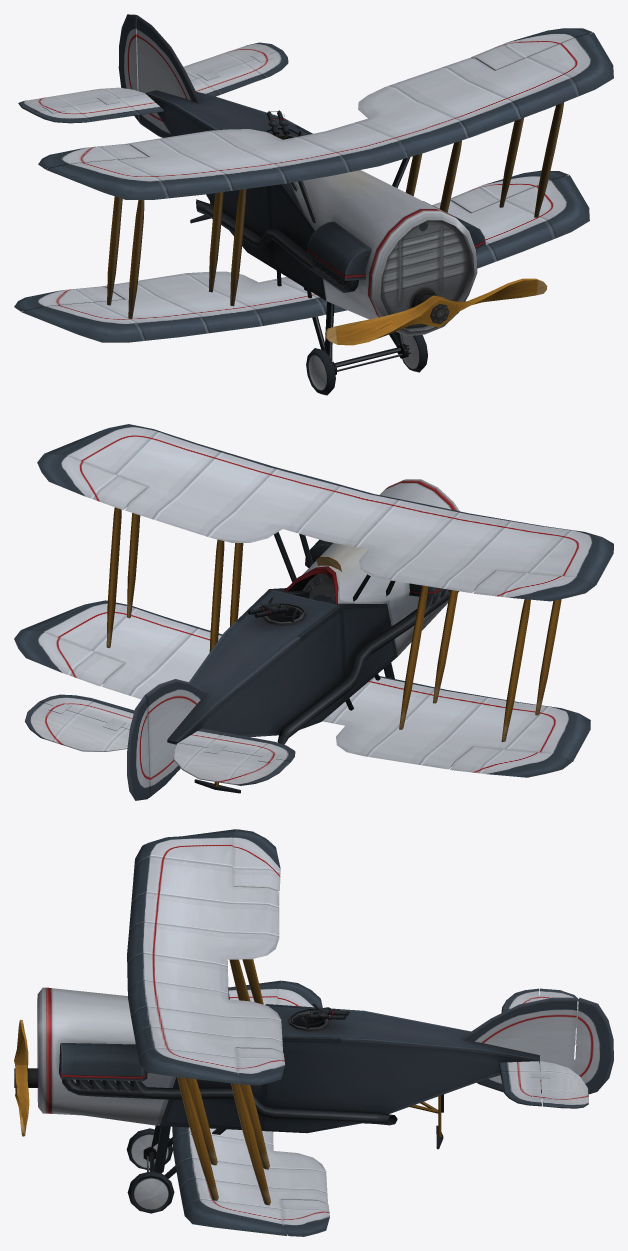
File: bristol.glb
3 views of the same model, one above another, from view 1: azimuth 30°, elevation 25°; view 2: azimuth 150°, elevation 25°; view 3: azimuth 270°, elevation 25° (orthographic). The views are drawn at different scales.
Parts seen in each view (by area): view 1: bristol; view 2: bristol; view 3: bristol.
Part boxes in pixels (x1,y1,x2,y2): bristol: (14,14,613,395); bristol: (14,424,613,800); bristol: (14,829,613,1236).
Size of the model in its own units: 1 by 0.4422 by 0.9911.
1 material, 1 textured.
